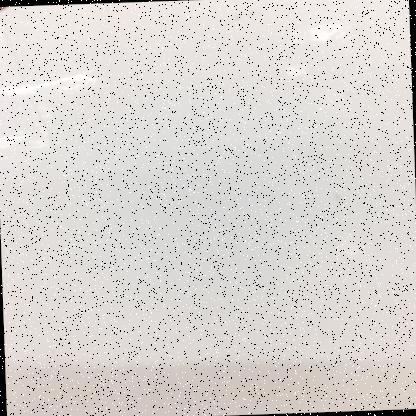Nocrack: (10, 13, 396, 400)
